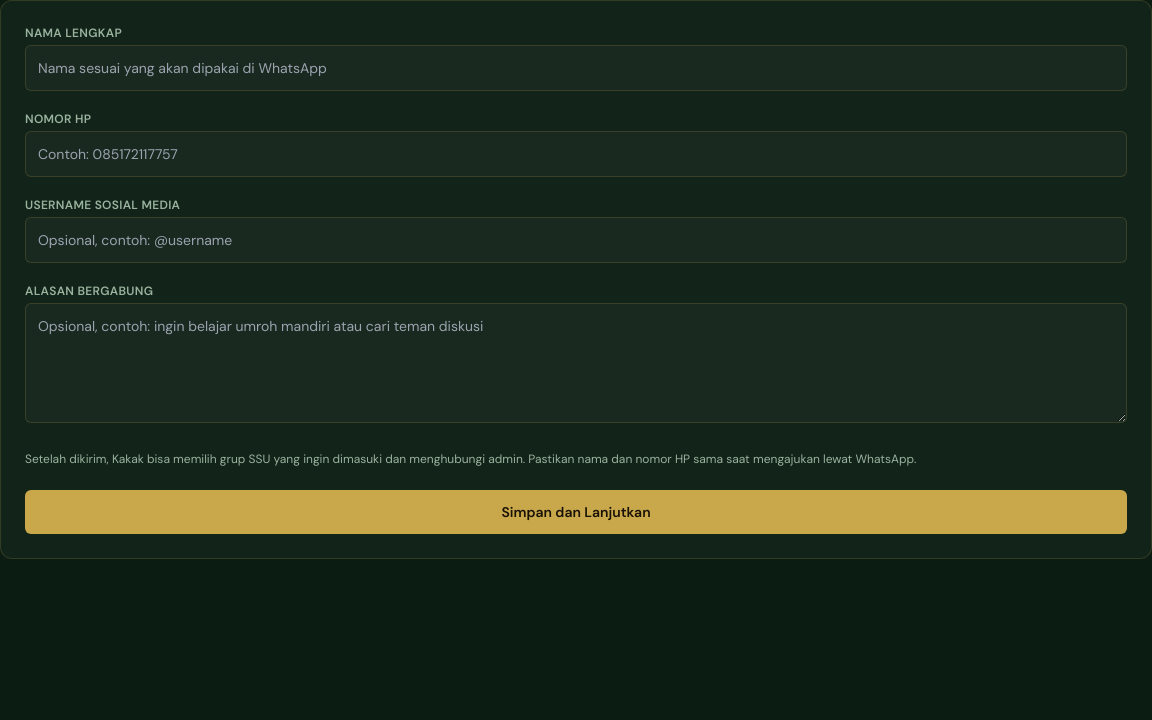
Test: CommunityJoinForm submission › shows API validation errors without losing form values
Type "Bayu" into the field labelled "Nama lengkap" at (576, 68), box top-left (25, 45), bottom-right (1127, 91)
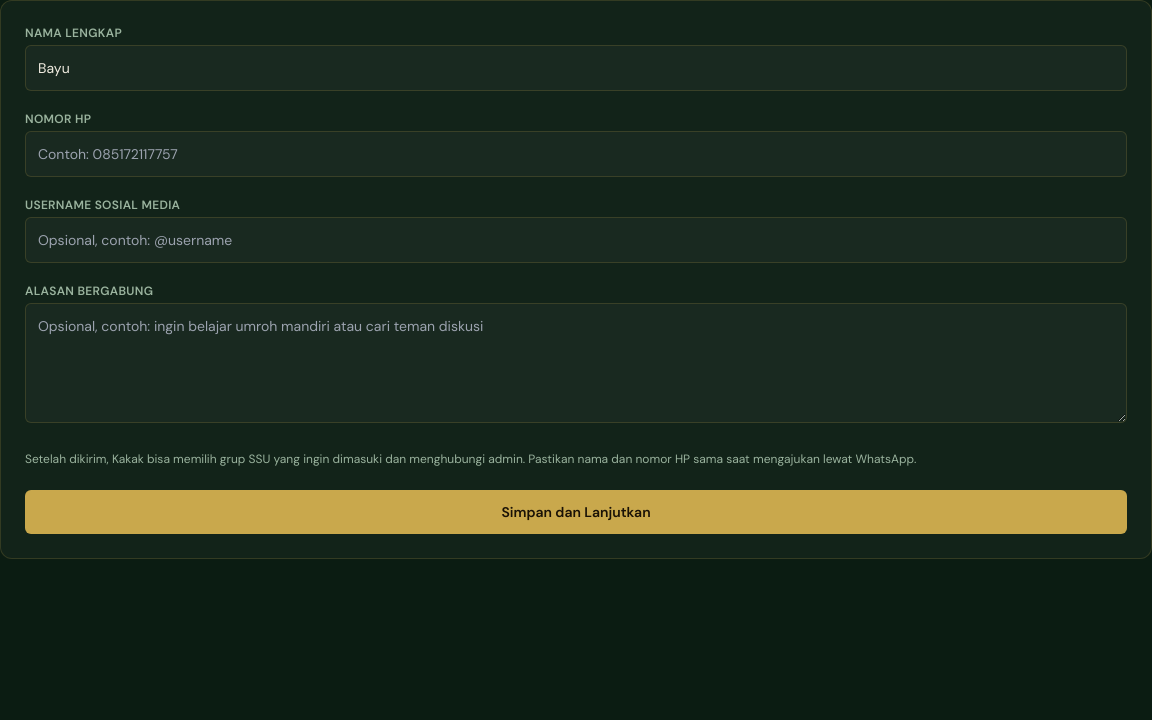
Type "bad" into the field labelled "Nomor HP" at (576, 154), box top-left (25, 131), bottom-right (1127, 177)
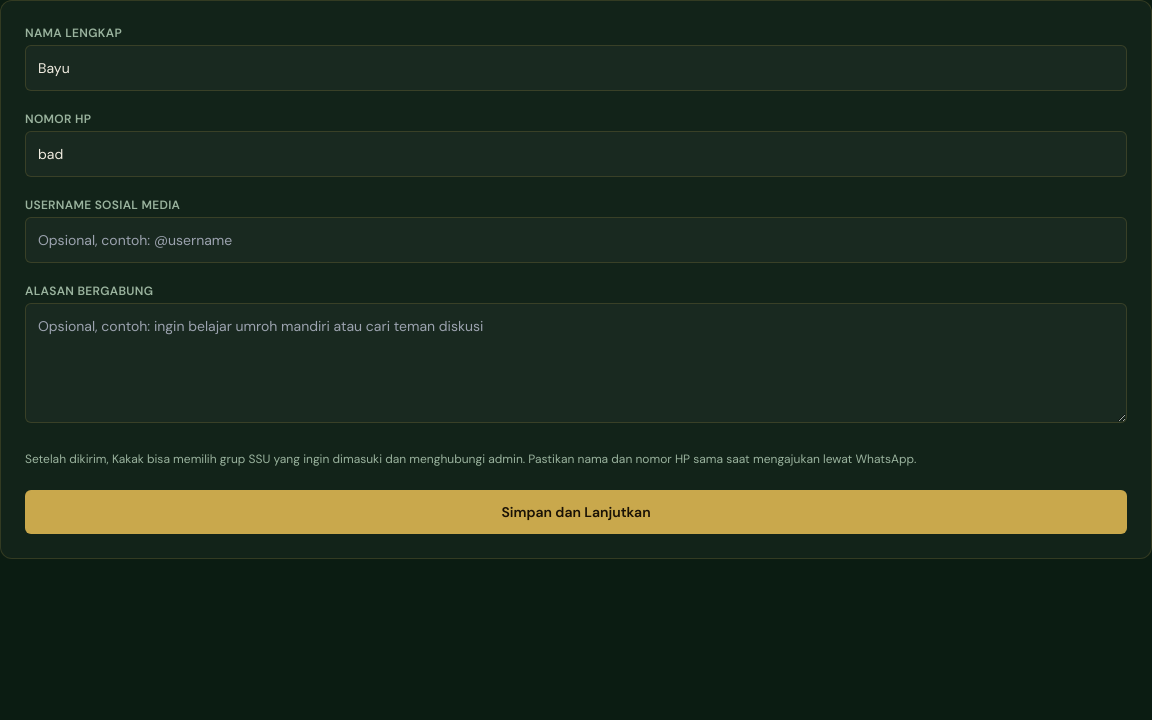
Click the button "Simpan dan Lanjutkan" at (576, 512), box top-left (25, 490), bottom-right (1127, 534)
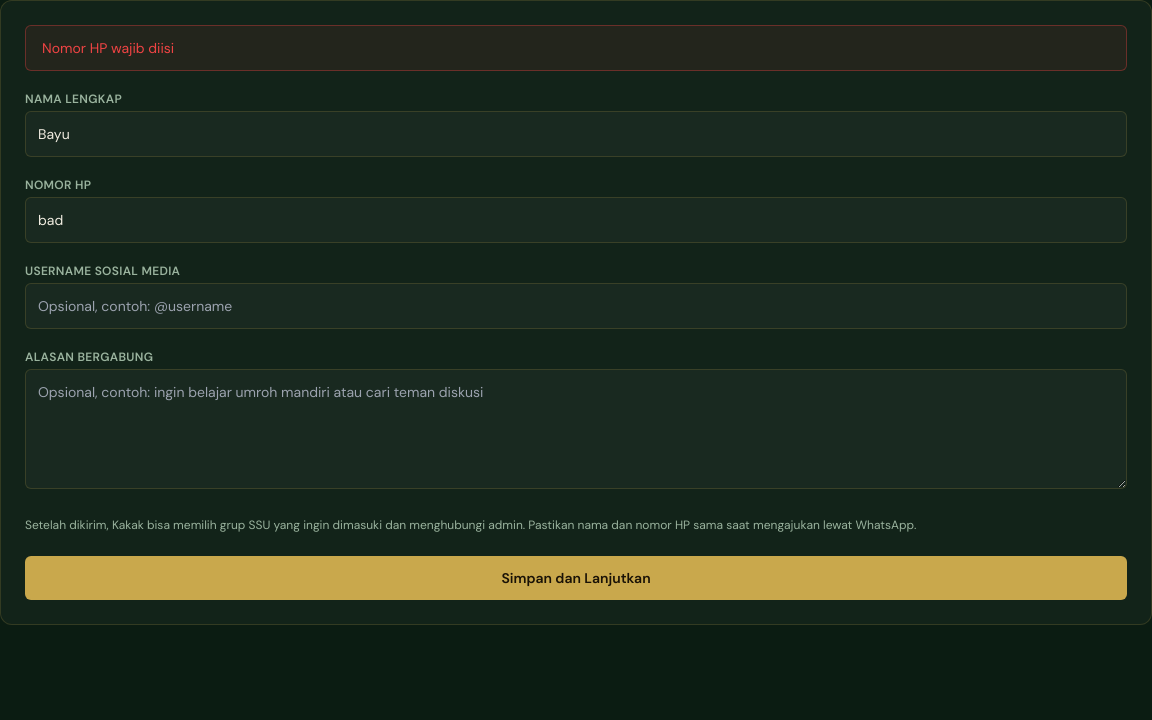
Expected: the text "Nomor HP wajib diisi" is shown, top-left (25, 25), bottom-right (1127, 71)
